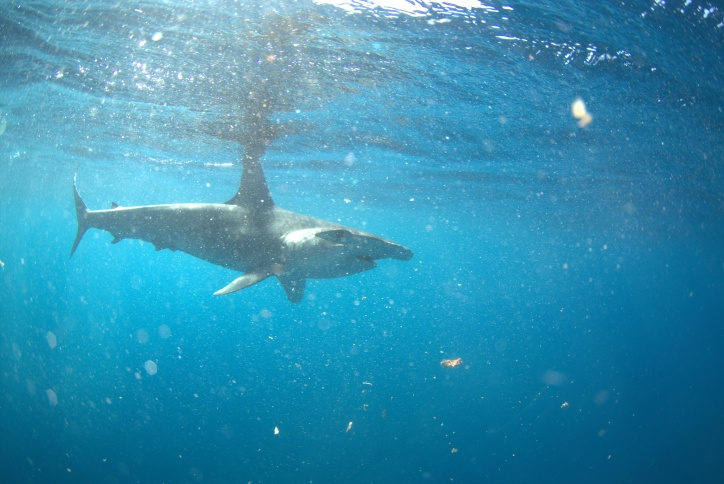Hammer: (25, 119, 493, 330)
